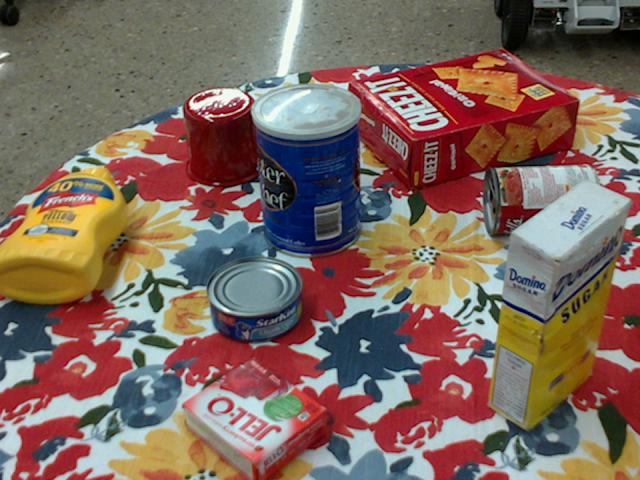cracker_box: (349, 50, 579, 190)
gelatin_box: (184, 360, 331, 479)
master_chef_can: (251, 82, 362, 257)
mug: (182, 88, 285, 187)
mustard_bottle: (0, 167, 126, 303)
sugar_box: (490, 178, 630, 432)
tomato_soup_can: (484, 163, 601, 234)
tuna_fish_can: (205, 257, 303, 344)
